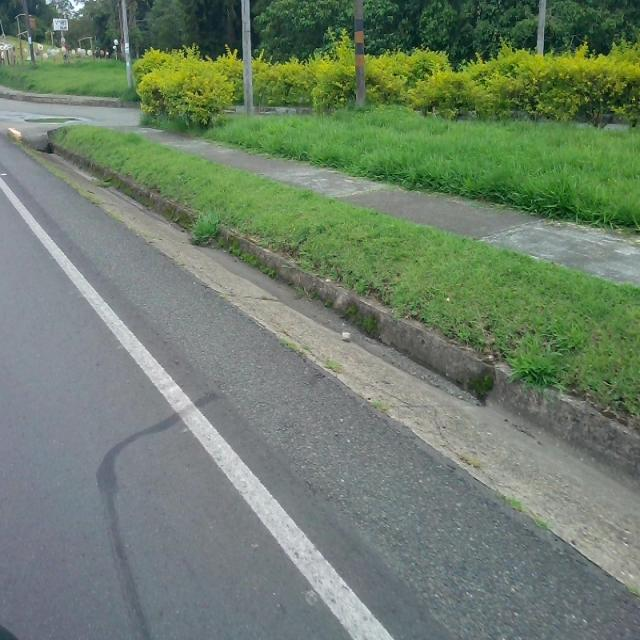DITCH: (4, 124, 638, 638), (2, 163, 637, 638), (1, 259, 638, 638)
